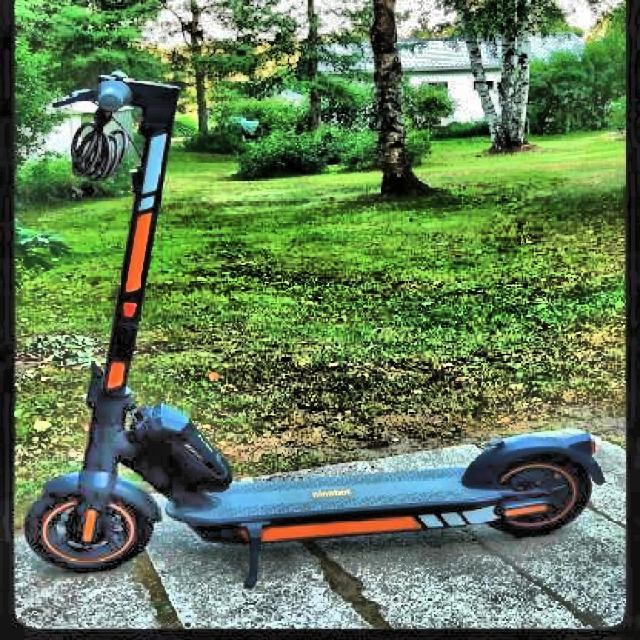bike: (22, 65, 607, 592)
